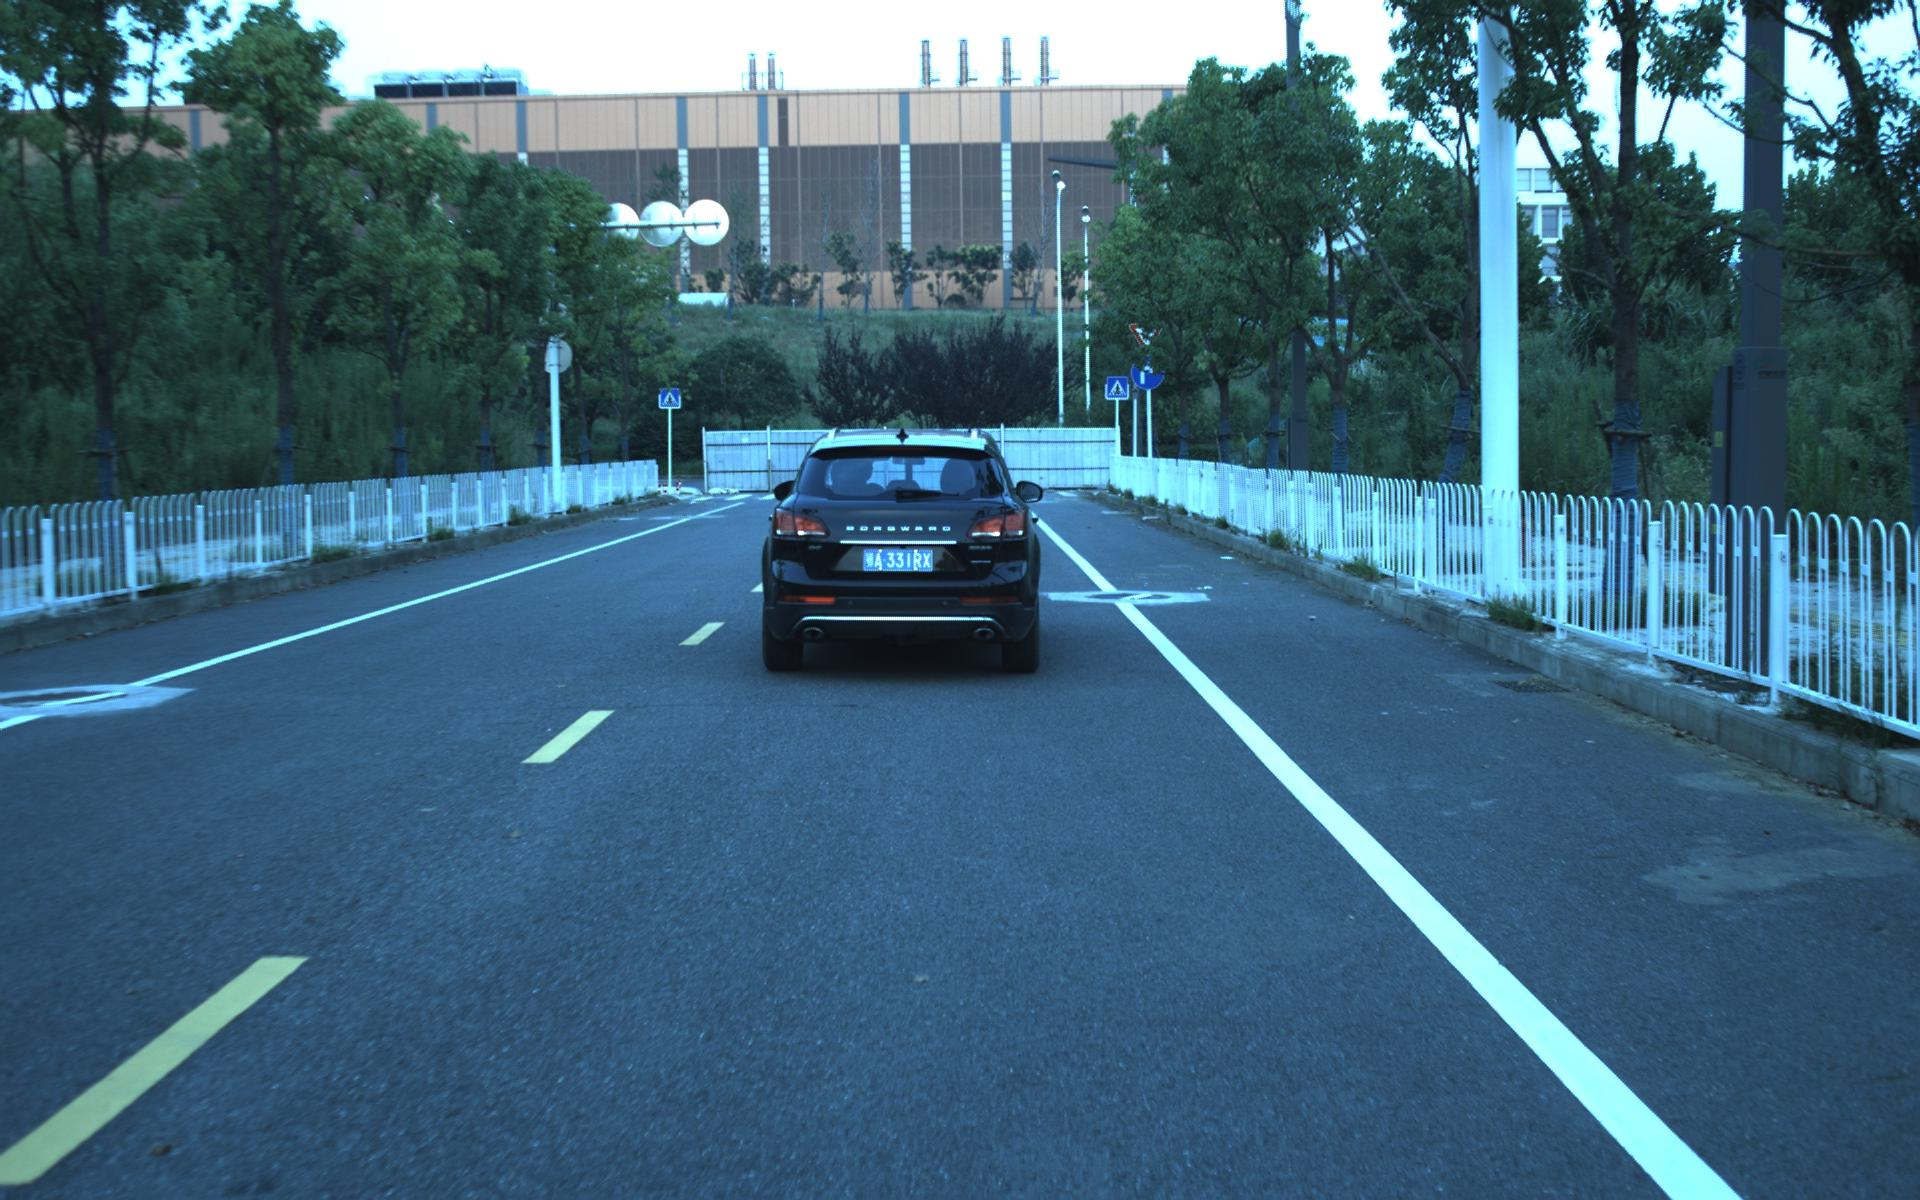Car: (757, 422, 1042, 673)
